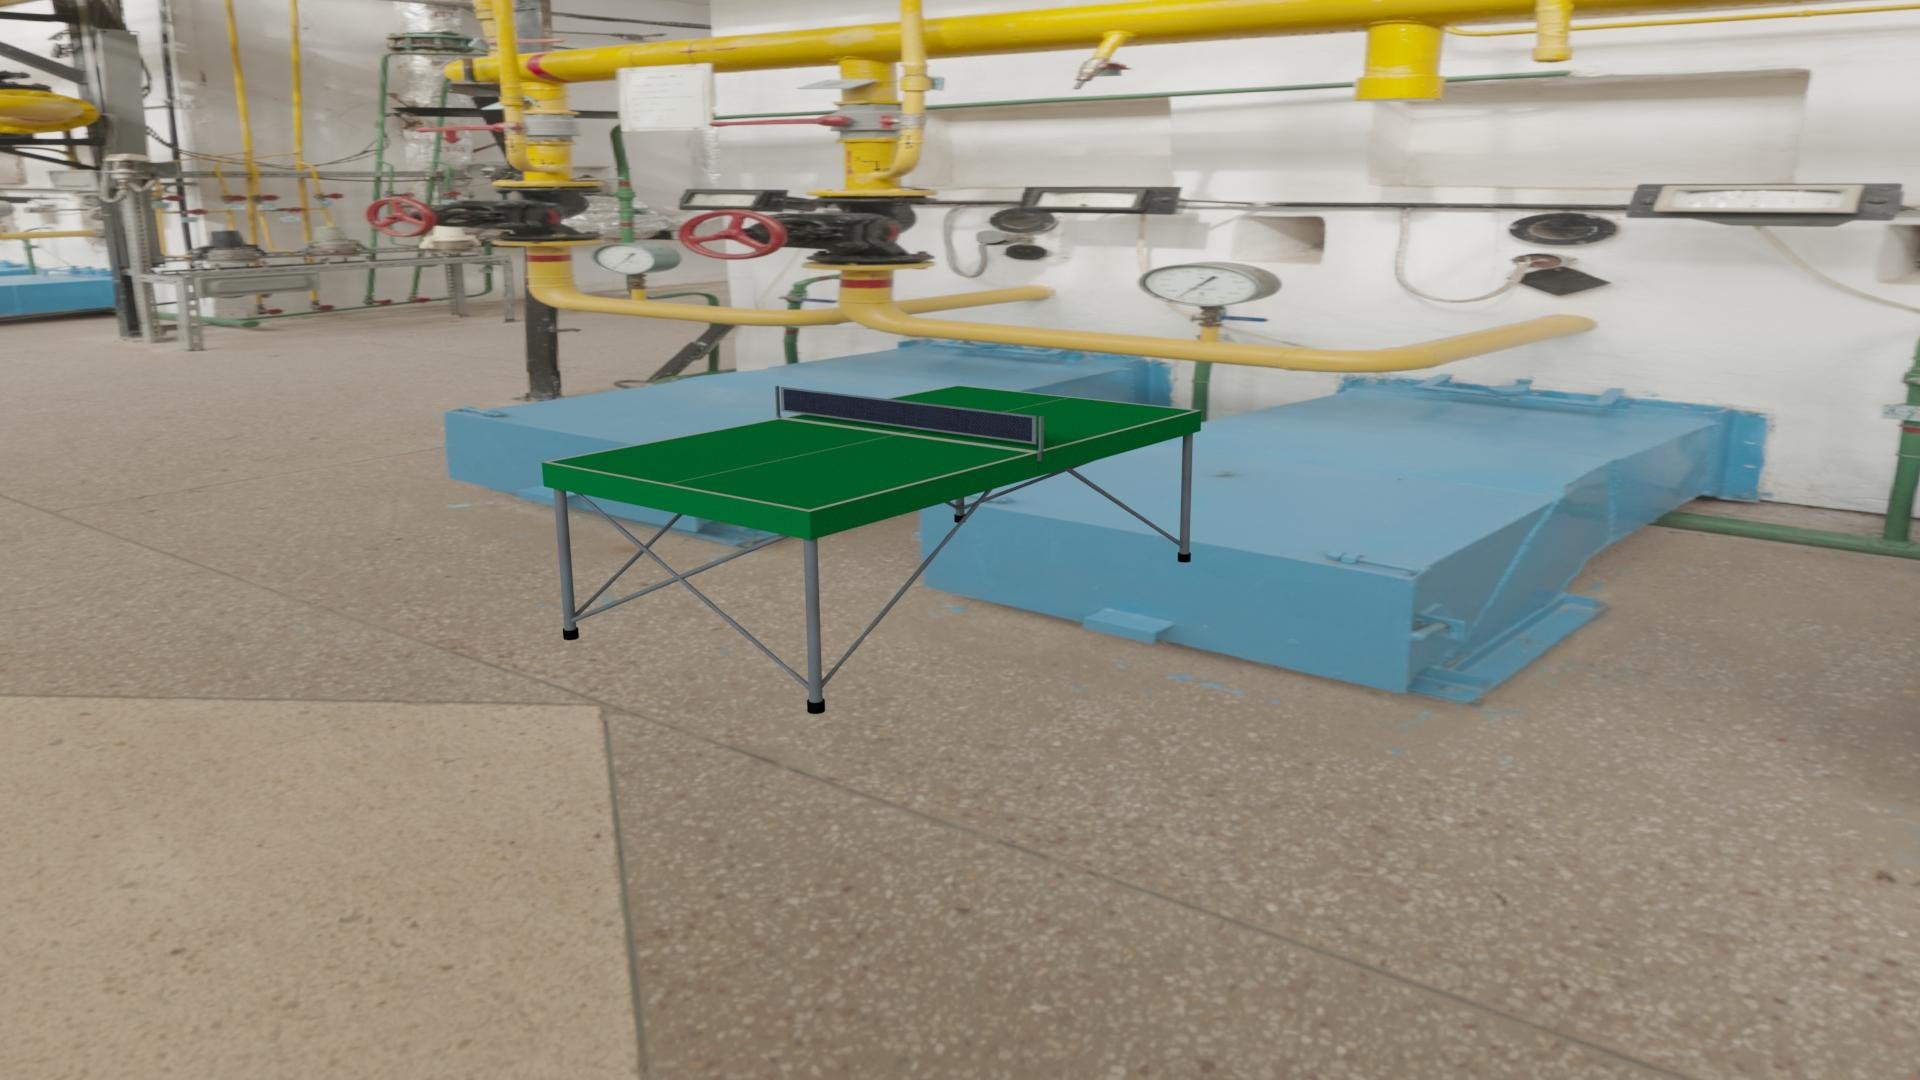table: (549, 386, 1196, 510)
